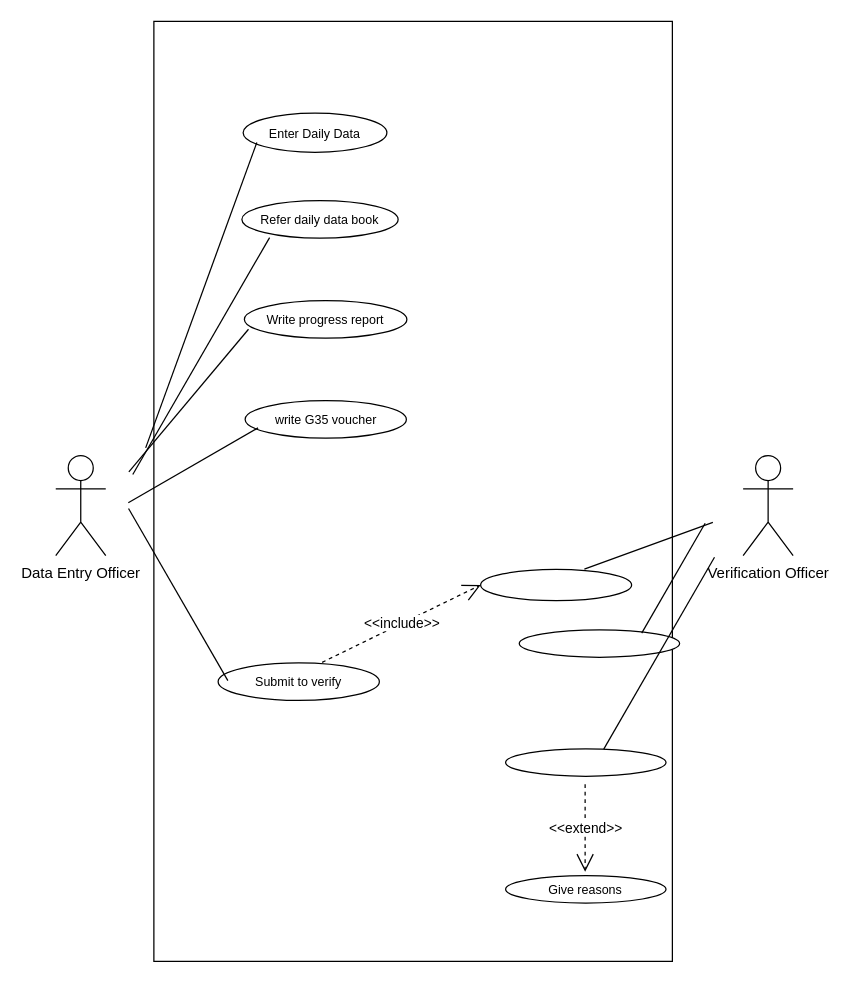
The diagram is 850 pixels wide and 984 high, and some of its shapes have lost their labels. Each missing label, with the box of its shape:
Approve: (518, 629, 680, 657)
Reject: (504, 748, 666, 776)
View Voucher: (479, 568, 632, 601)
